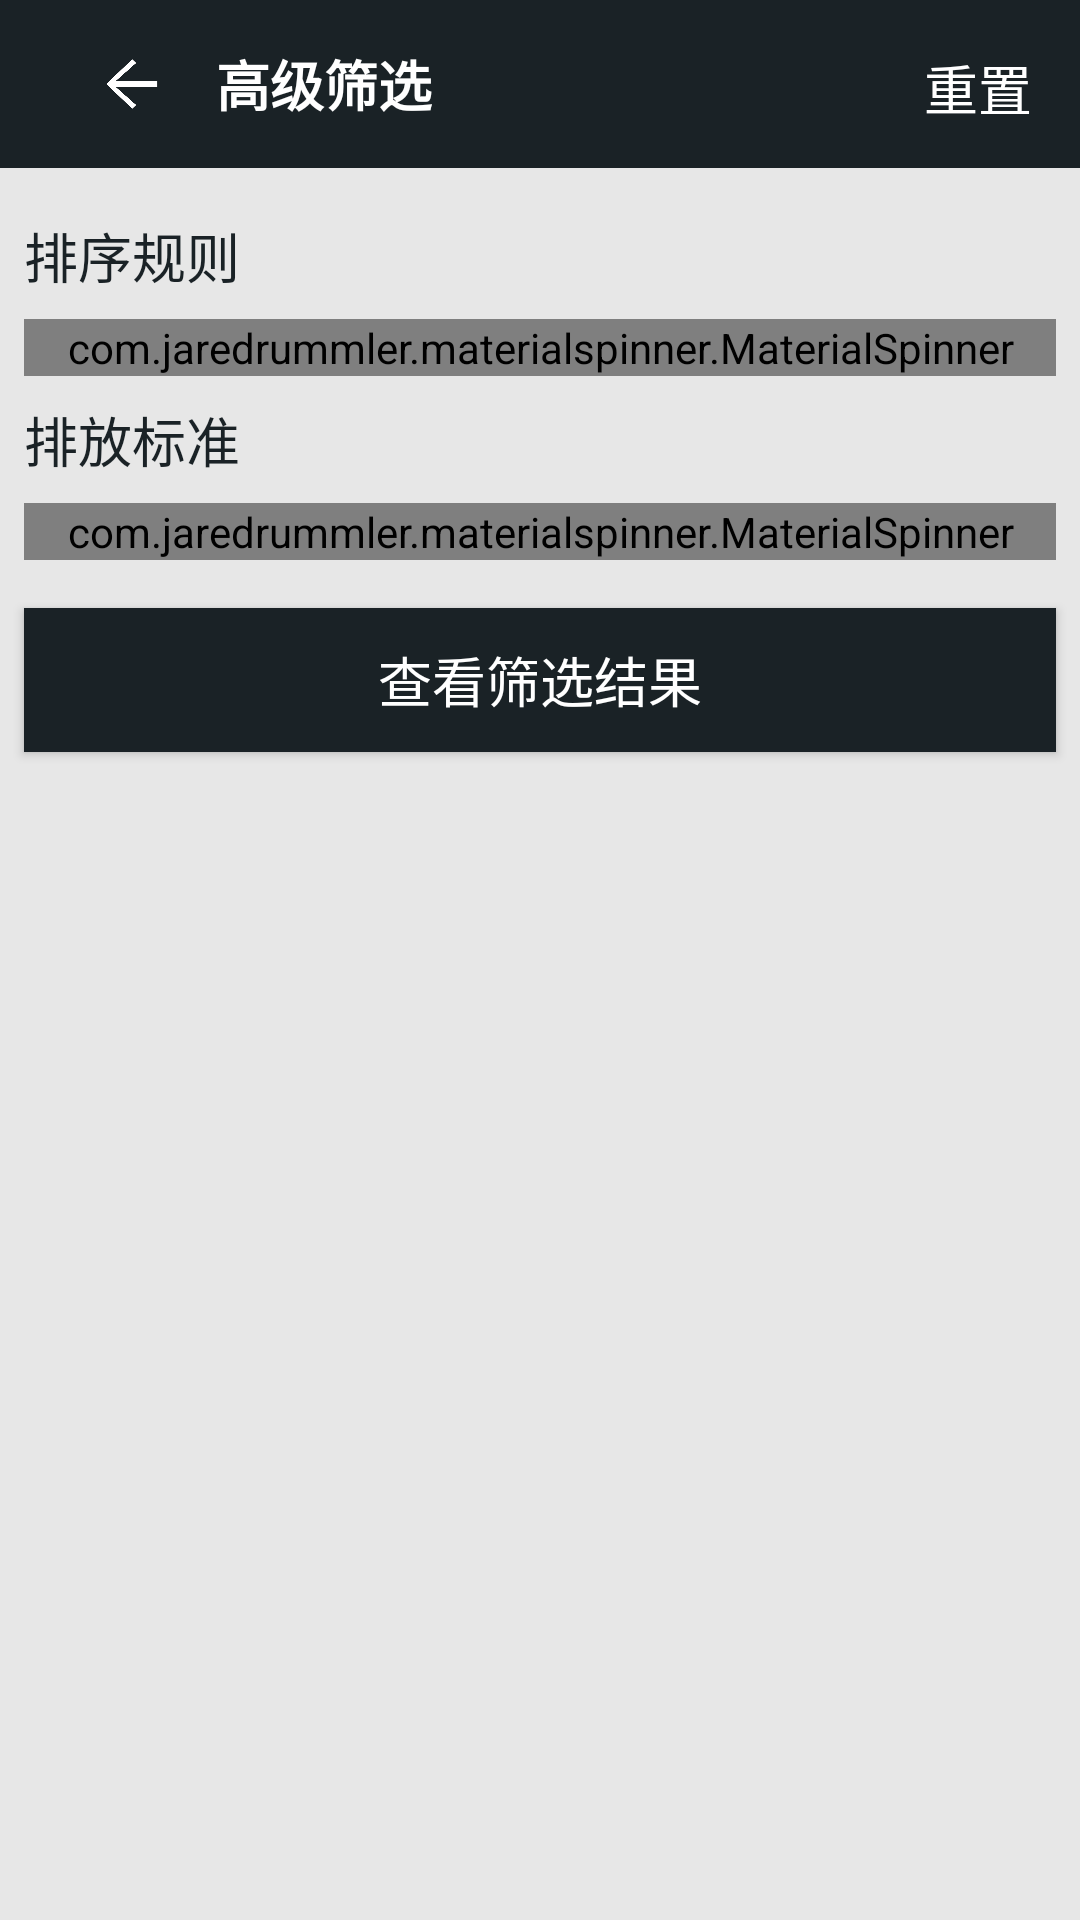

Screen size 1080w x 1920h. Icon name, then its box in pixels as [x1=x1, y1=y1, x2=x2, y2=y2]:
back: [x1=107, y1=59, x2=157, y2=109]
